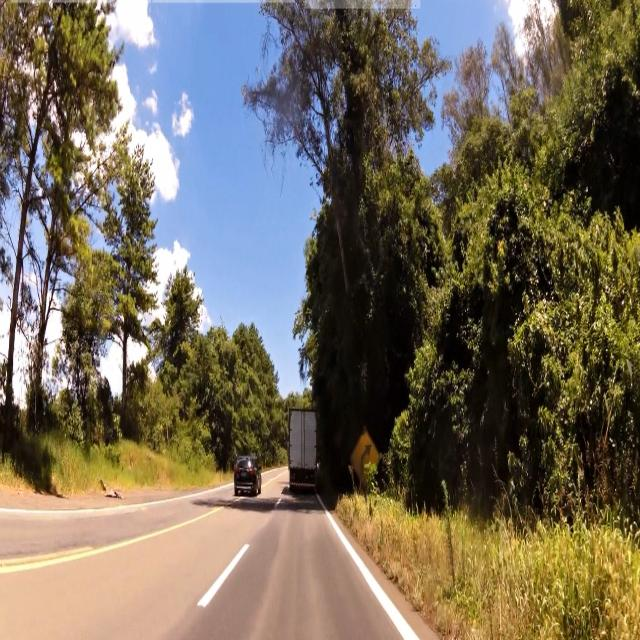A-2b: (351, 428, 380, 483)
